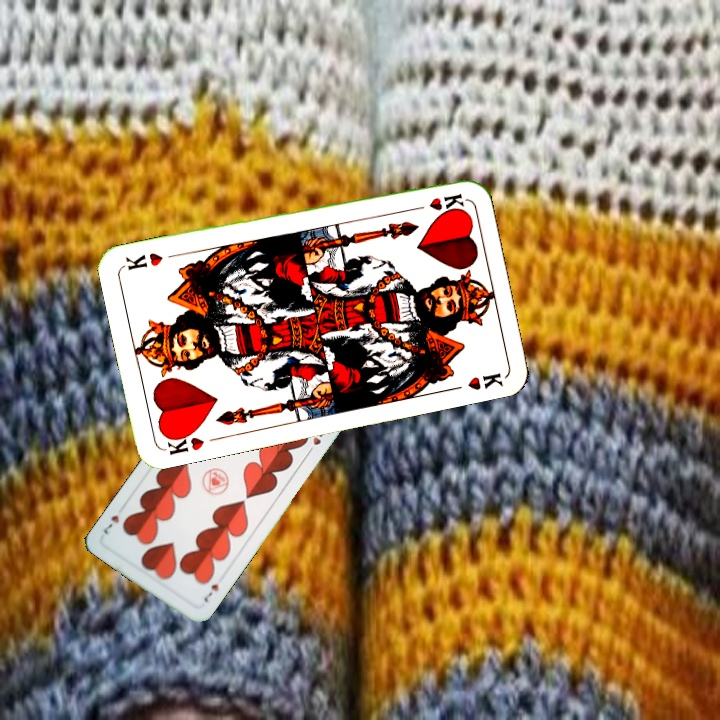H7: (200, 580, 221, 605)
HK: (160, 426, 207, 458), (406, 189, 466, 214)
